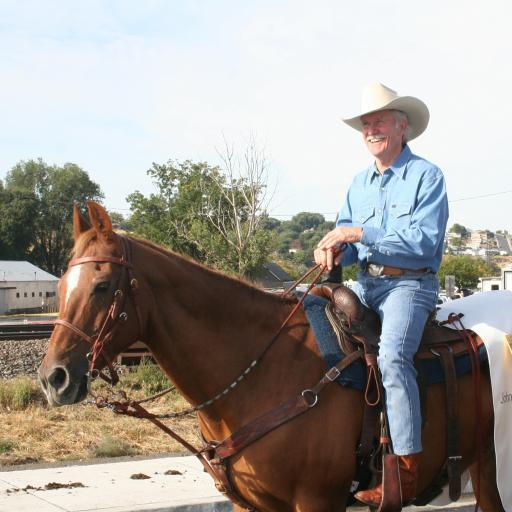Horse: (38, 198, 512, 512)
